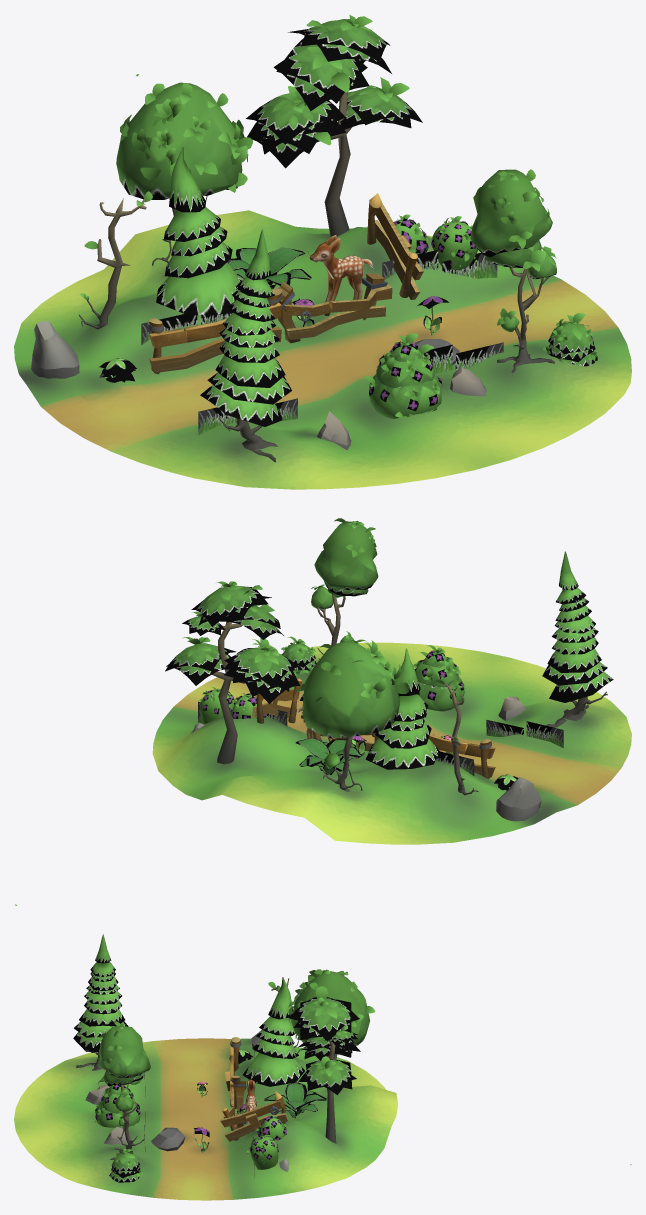
File: forest.glb
The picture shows the model from 3 angles, top to bottom: view 1: azimuth 30°, elevation 25°; view 2: azimuth 150°, elevation 25°; view 3: azimuth 270°, elevation 25°; orthographic projection. The views are drawn at different scales.
Parts seen in each view (by area): view 1: Object_2; view 2: Object_2; view 3: Object_2.
Part boxes in pixels (box(x1,y1,x2,y2)): Object_2: box(14, 15, 631, 489); Object_2: box(15, 518, 631, 905); Object_2: box(14, 934, 631, 1200).
Size of the model in its own units: 65.09 by 30.76 by 105.
Materials: 1 (1 with a texture image).
